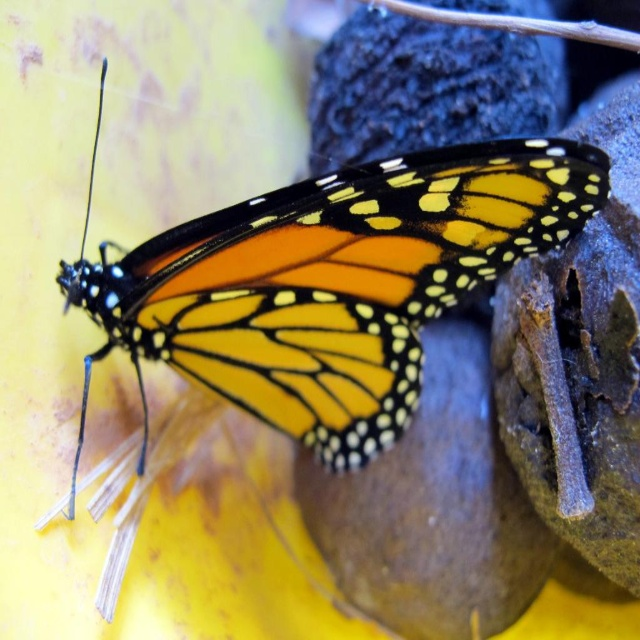Butterfly: (54, 118, 618, 564)
